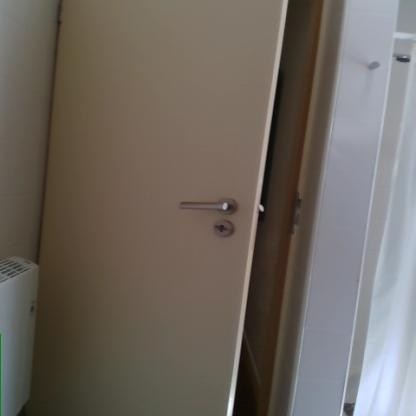closed: (25, 0, 350, 416)
